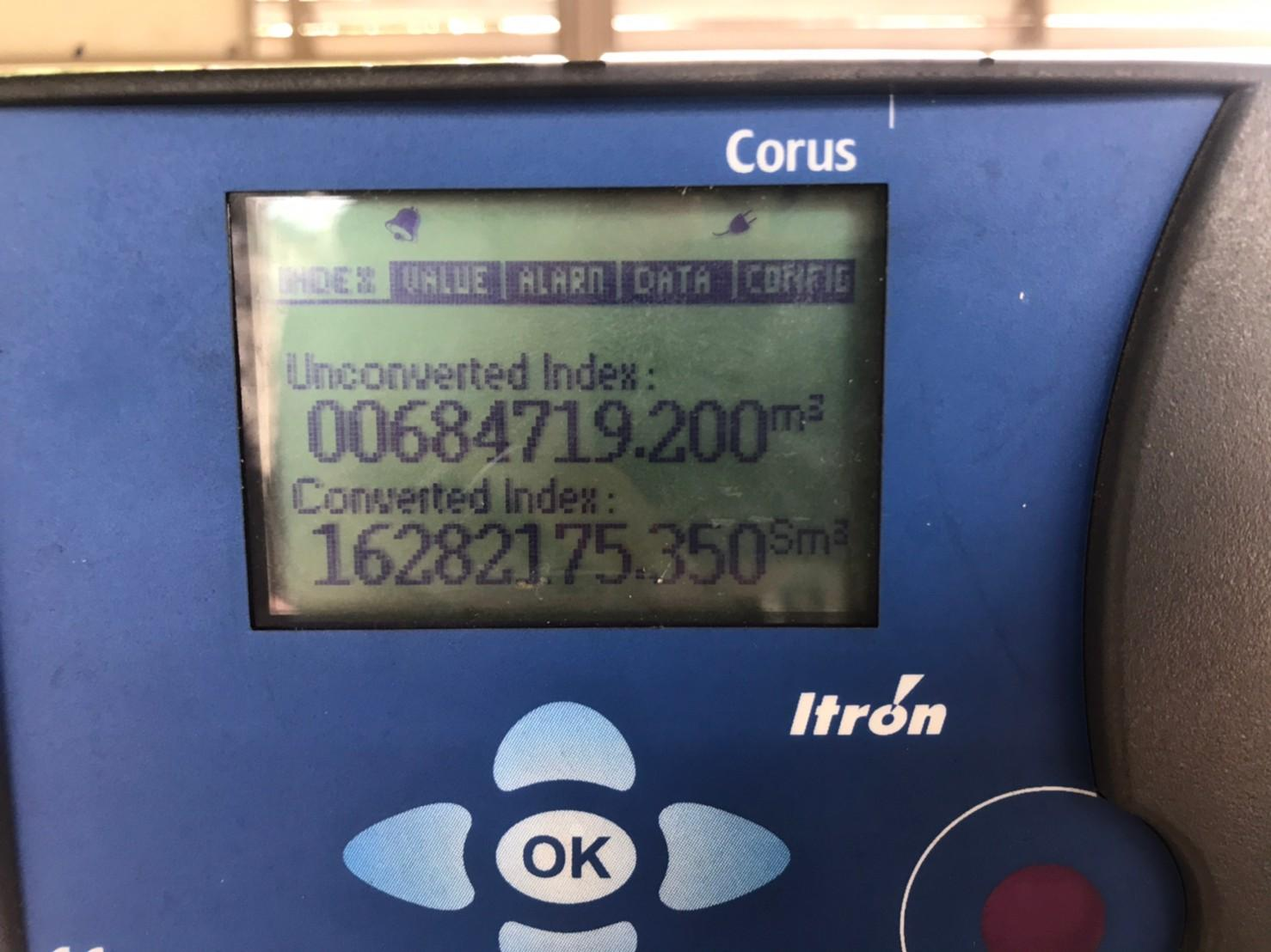digital_screen: (227, 185, 892, 632)
